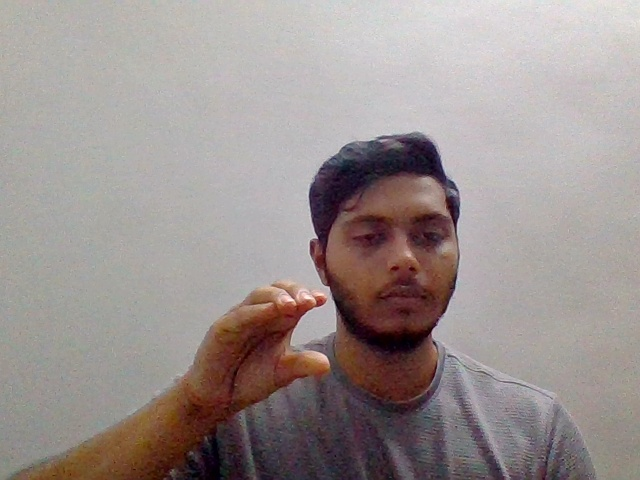No: (172, 271, 345, 434)
